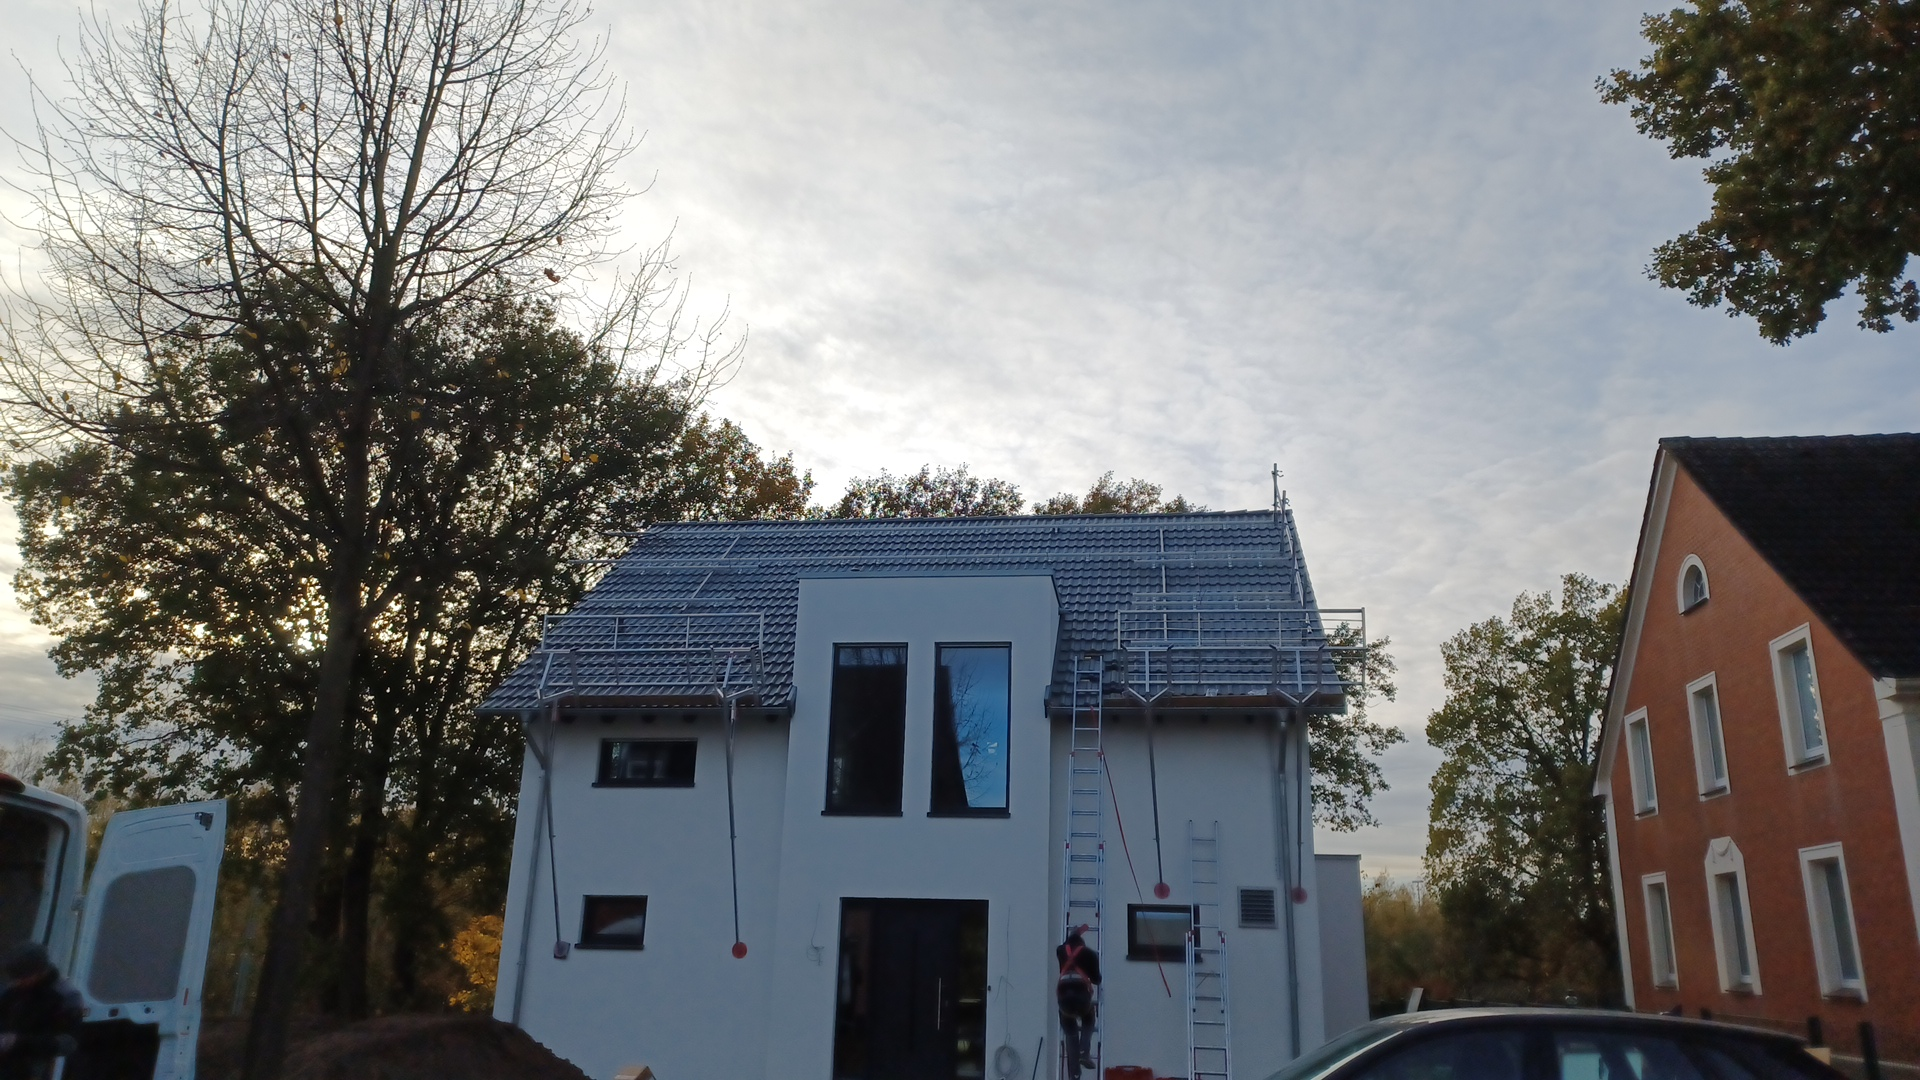hook: (640, 568, 647, 576), (666, 568, 673, 576), (1048, 554, 1052, 564), (1085, 555, 1089, 564), (1233, 595, 1238, 601), (713, 601, 719, 608), (1228, 560, 1232, 568), (1193, 603, 1197, 611), (1222, 524, 1226, 531), (1088, 526, 1092, 534), (1265, 595, 1269, 601), (1054, 526, 1058, 533), (738, 568, 742, 575), (1259, 559, 1262, 568), (1251, 522, 1254, 531), (1153, 596, 1156, 601), (1153, 605, 1156, 611), (1236, 604, 1240, 609), (1266, 604, 1270, 609), (1226, 553, 1232, 556), (1191, 562, 1193, 568), (1153, 562, 1155, 568), (1187, 525, 1189, 531), (1193, 596, 1196, 600)
